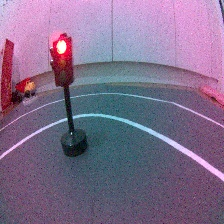red: (46, 32, 89, 160)
